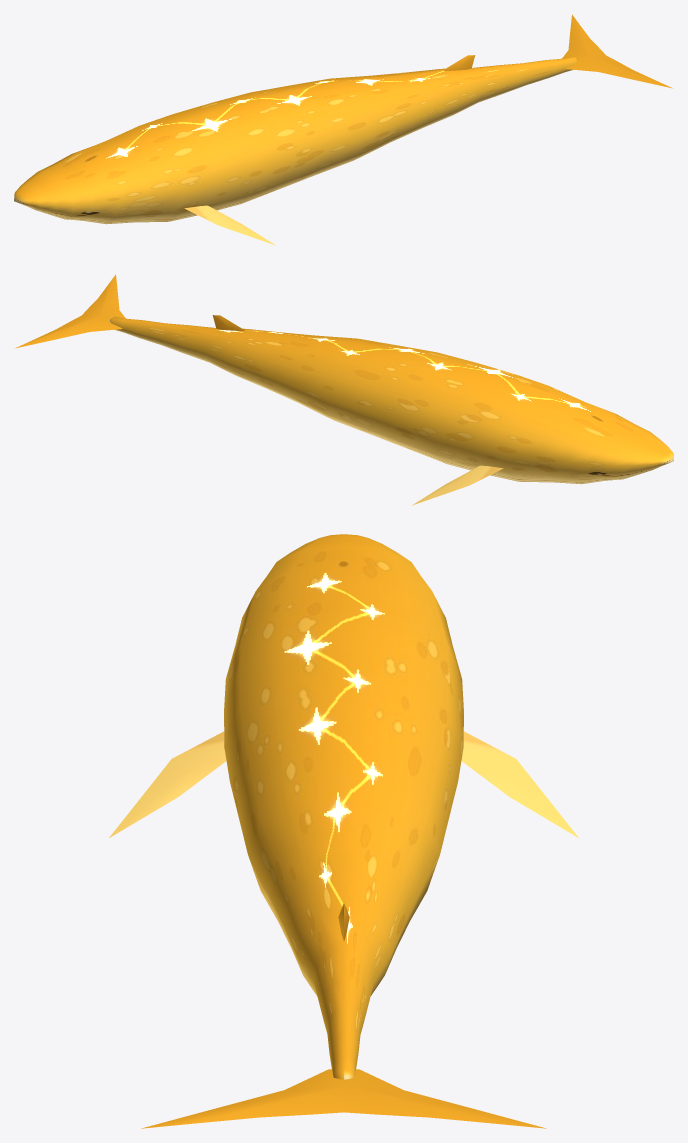
The model's file is Stella.glb.
The picture shows the model from 3 angles, top to bottom: view 1: azimuth 30°, elevation 25°; view 2: azimuth 150°, elevation 25°; view 3: azimuth 270°, elevation 25°; orthographic projection. The views are drawn at different scales.
Parts seen in each view (by area): view 1: Stella; view 2: Stella; view 3: Stella.
Part boxes in pixels (x1=…): Stella: x1=14, y1=14, x2=673, y2=245; Stella: x1=14, y1=274, x2=673, y2=505; Stella: x1=109, y1=534, x2=578, y2=1128.
Bounding box in the file's own units: 2 × 0.2959 × 0.67.
1 material, 1 textured.
